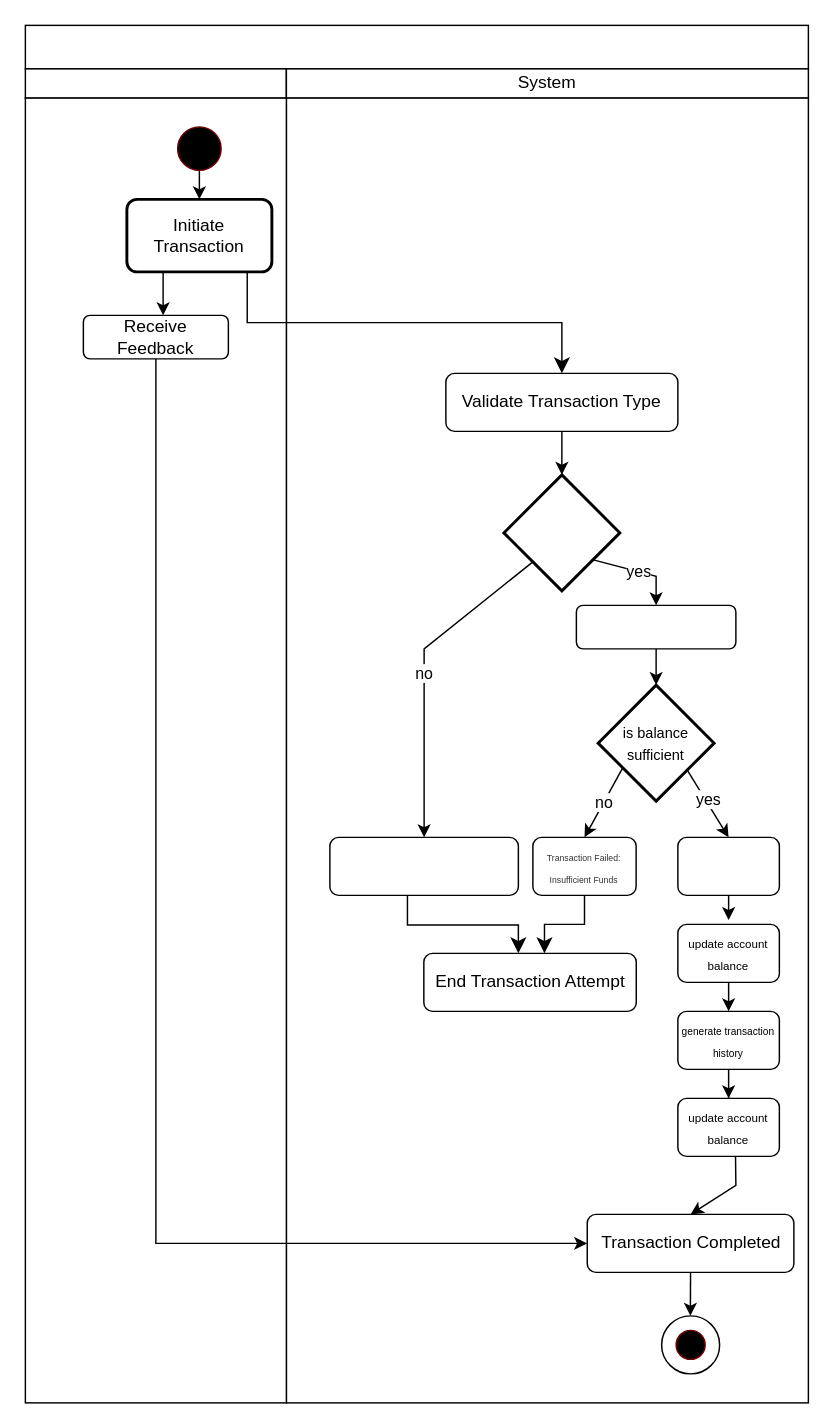
This 834x1428 diagram has some shape labels left out. Here are the shapes that lost their labels. From the top down, the box of each, then its label:
(24, 24, 808, 69): Login Flow
(24, 67, 286, 98): User
(502, 473, 621, 592): is transaction valid
(575, 604, 736, 649): verify account balance
(328, 836, 518, 895): show error: invalid transaction
(676, 836, 779, 895): process transaction
